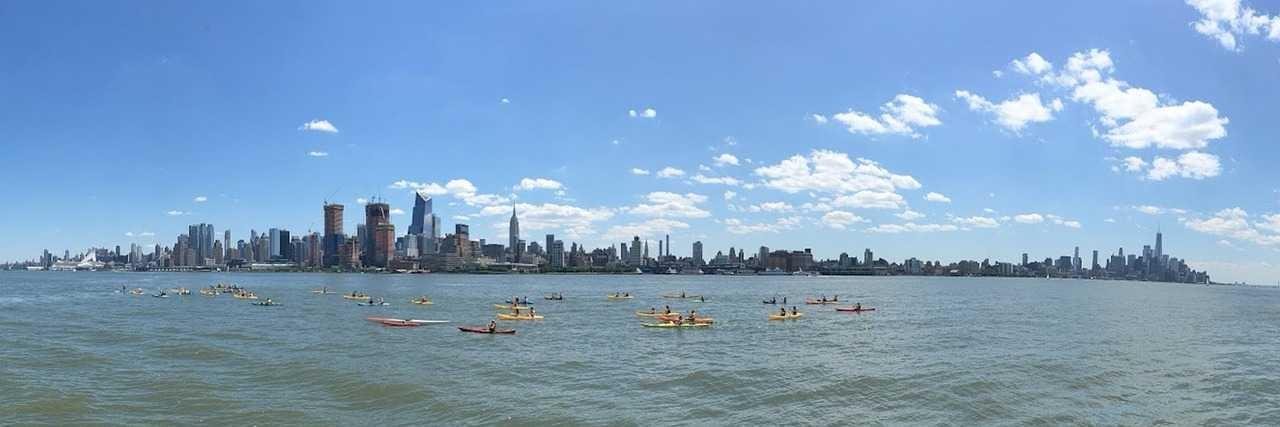kayak: (636, 307, 714, 327), (491, 299, 545, 320), (454, 320, 524, 336), (367, 317, 426, 328), (767, 305, 805, 321), (833, 304, 881, 314), (803, 293, 841, 305), (342, 292, 374, 303), (605, 291, 634, 301), (410, 297, 433, 306)
